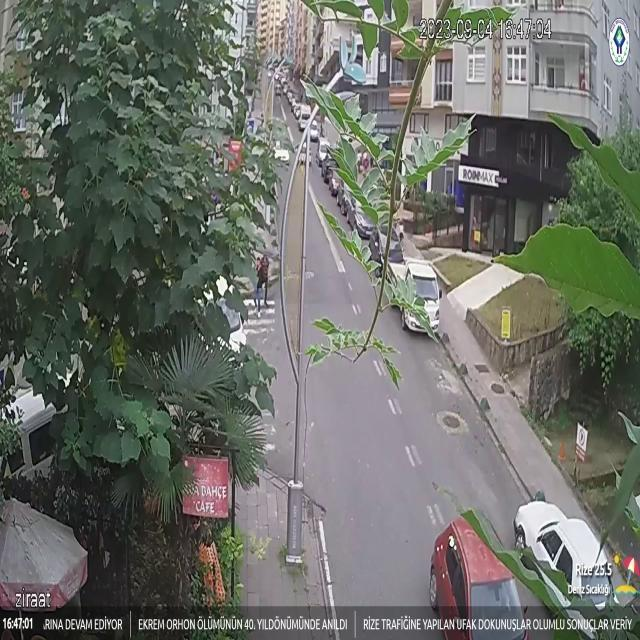Car: (510, 497, 623, 640), (427, 509, 537, 637), (364, 225, 415, 276), (345, 190, 381, 241), (312, 132, 336, 172), (328, 167, 353, 201)
Truck: (385, 262, 455, 339), (296, 104, 315, 134)
